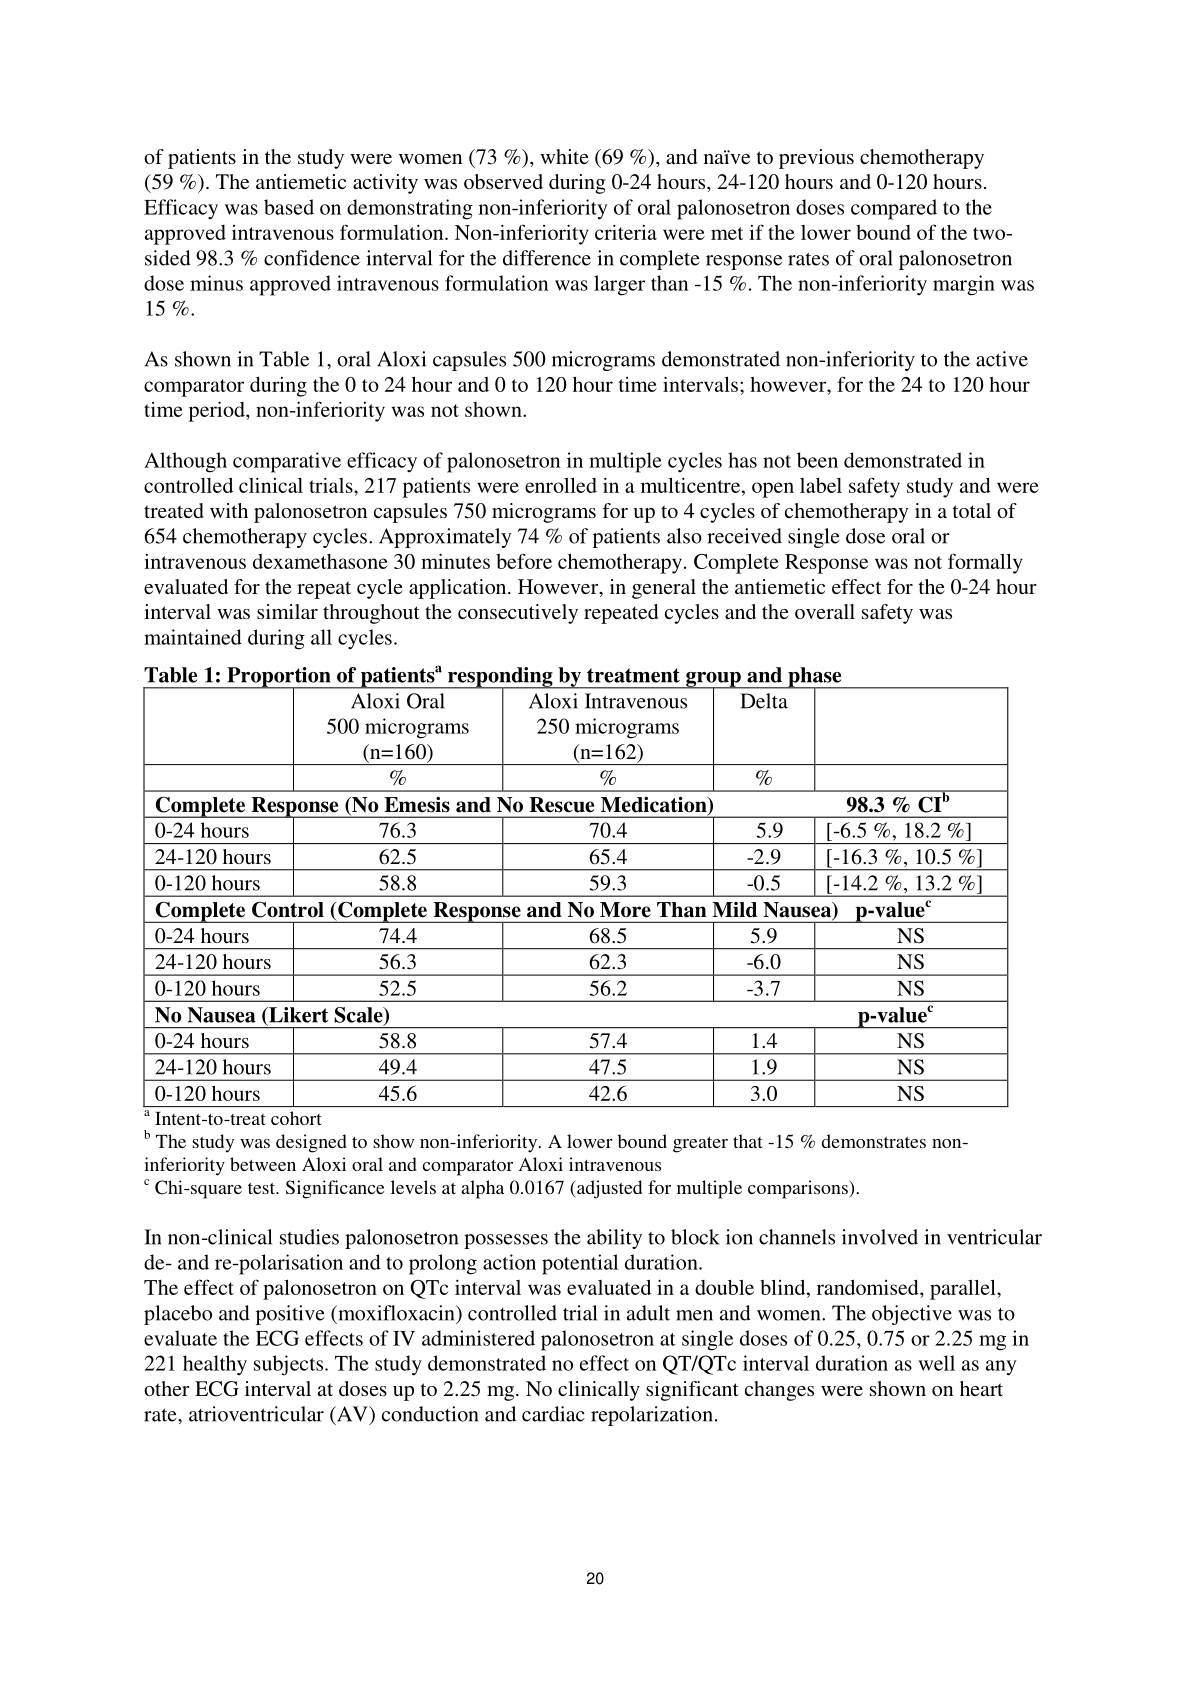merged_cells: (140, 685, 1009, 1108)
